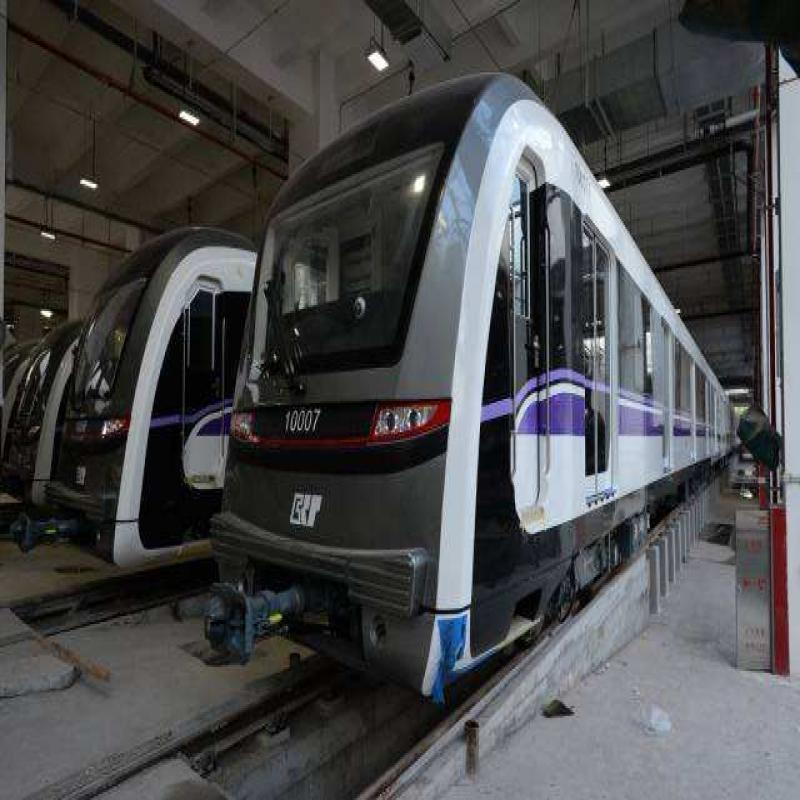train: (251, 152, 707, 633), (74, 246, 249, 553)
